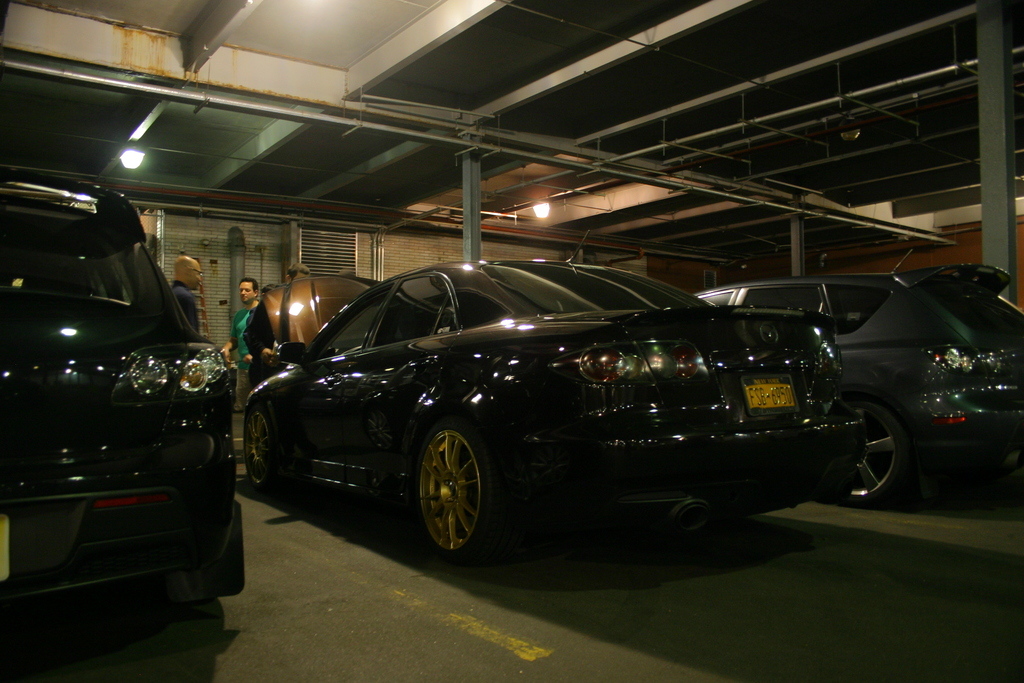mobil: (239, 265, 872, 546)
